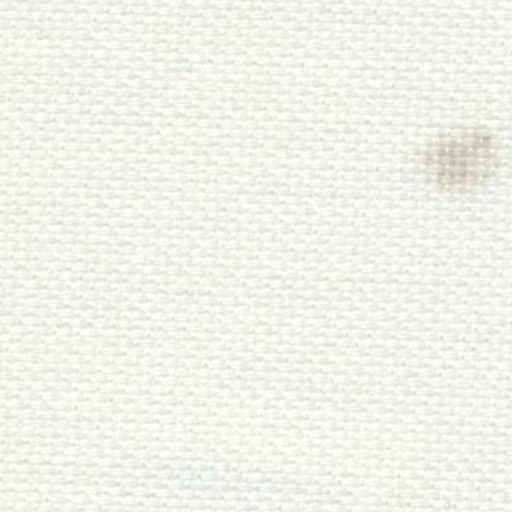WuZi: (412, 114, 504, 202)
